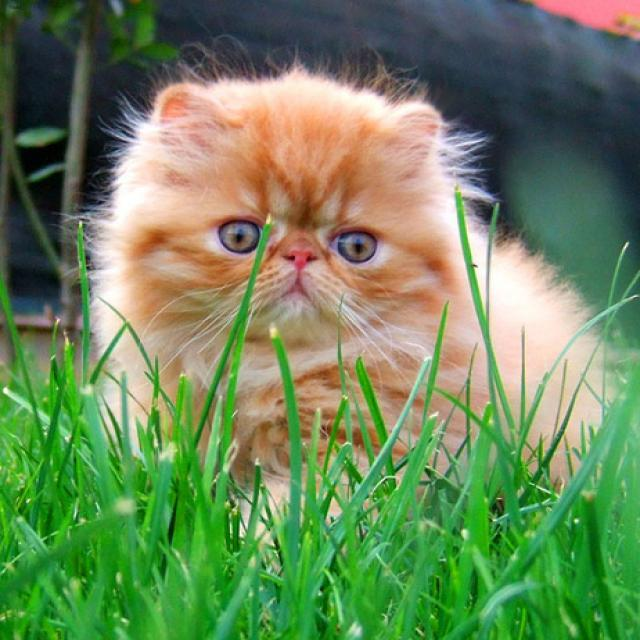Persian: (109, 71, 453, 345)
